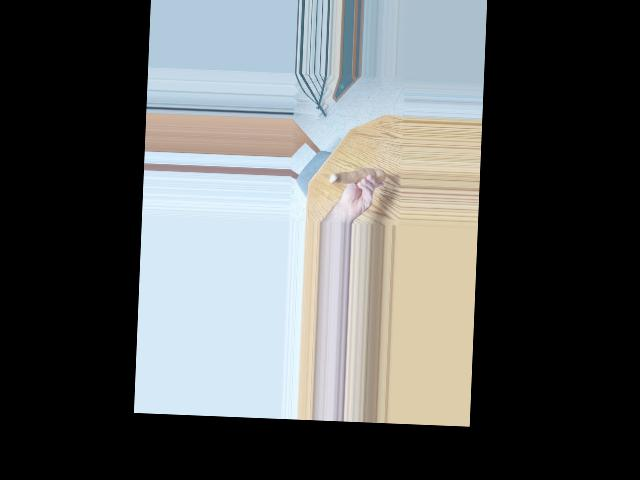sweet_potato: (330, 164, 386, 191)
